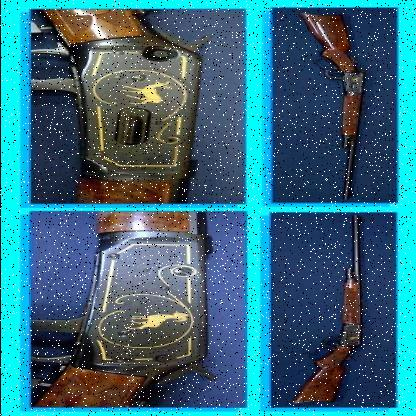rifle: (221, 215, 380, 416), (270, 2, 393, 203)
